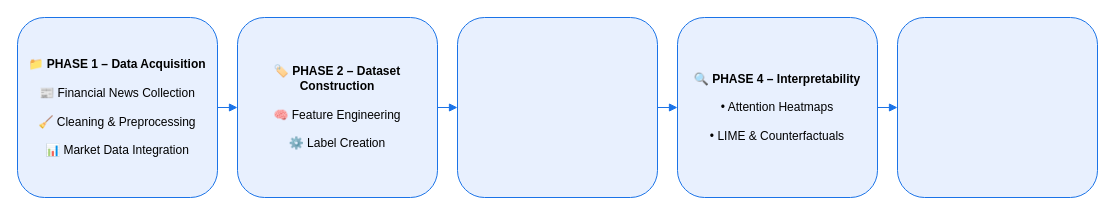
Some shapes in this 1115 by 215 pixel diagram are drawn without their labels. The shapes that lost their labels are listed below. From the top down, each one's centre as x and y in pixels, then its label:
the point at 557,107: 🤖 PHASE 3 – Modeling 📌 Classical ML Models 🚀 Enhanced FinBERT + MLP Fusion
the point at 997,107: 🛡️ PHASE 5 – Robustness • Noise Injection • Adversarial Testing
